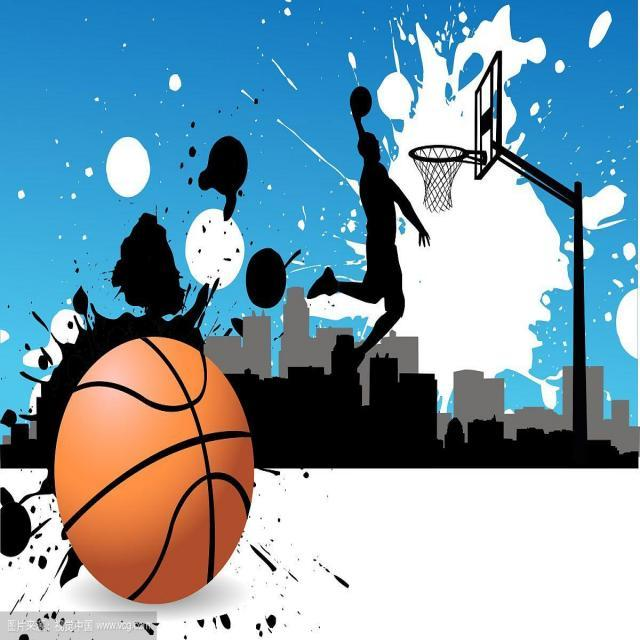rim: (55, 337, 256, 603)
